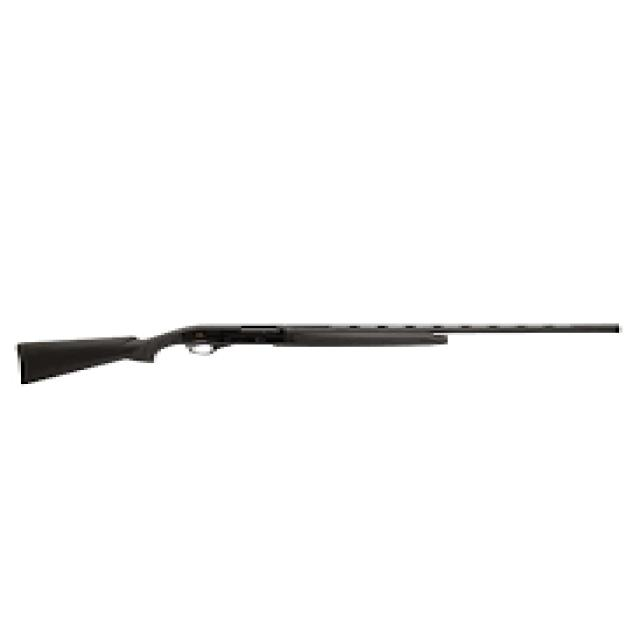rifle: (14, 318, 633, 388)
